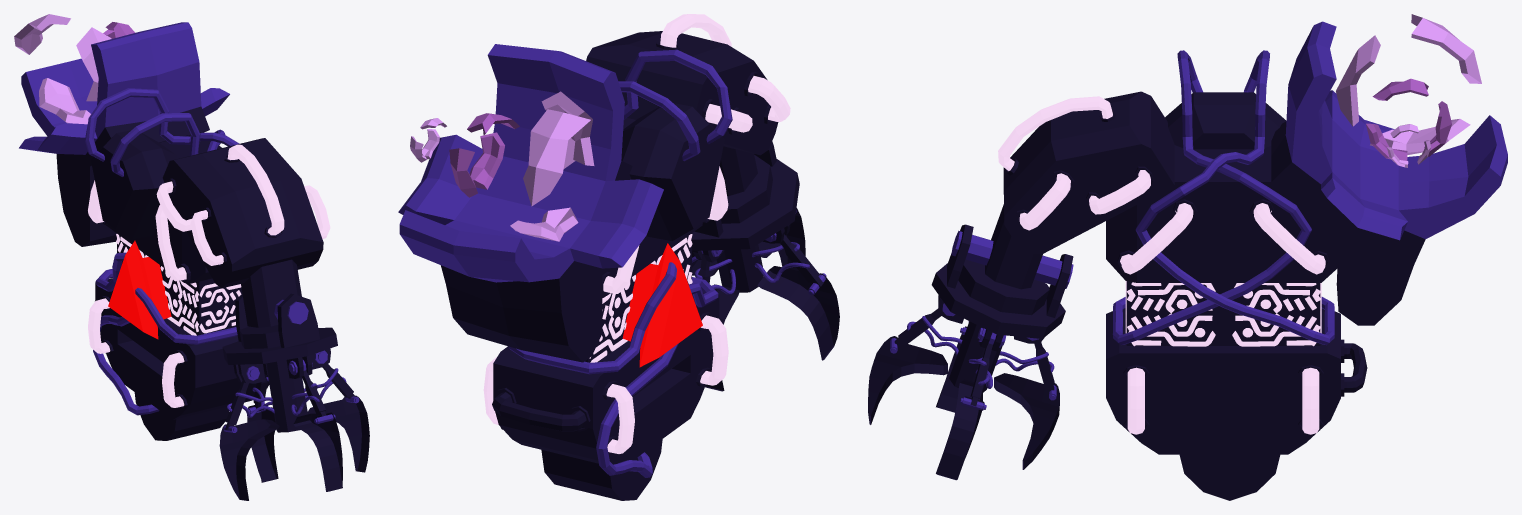
File: Robot.fbx
3 renders of one model, left to right at view 1: azimuth 30°, elevation 25°; view 2: azimuth 150°, elevation 25°; view 3: azimuth 270°, elevation 25°, orthographic. The views are drawn at different scales.
Visible parts, largest first — view 1: Cube.014, Cube.011, Cube.013, Plane.005, Plane.009, Cylinder.008, Torus.004, Plane.006, Plane.008, Cube.015, BezierCurve.023, BezierCurve.024 (+18 smaller); view 2: Cube.014, Cube.013, Cube.011, Plane.005, Torus.004, Cylinder.008, Plane.006, BezierCurve.024, BezierCurve.017, Cube.009, Plane.009, BezierCurve.023 (+16 smaller); view 3: Cube.014, Cube.013, Cube.012, Cube.011, Cube.010, BezierCurve.024, Plane.008, BezierCurve.023, runes.002, Cylinder.008, Plane.005, Torus.004 (+15 smaller).
Boxes of the visible parts, bbox=[...] form: Cube.014: bbox=[19, 22, 229, 246]; Cube.011: bbox=[162, 138, 323, 288]; Cube.013: bbox=[95, 278, 269, 419]; Plane.005: bbox=[91, 130, 177, 239]; Plane.009: bbox=[219, 395, 369, 500]; Cylinder.008: bbox=[222, 327, 337, 432]; Torus.004: bbox=[14, 14, 111, 124]; Plane.006: bbox=[108, 240, 171, 339]; Plane.008: bbox=[247, 405, 342, 491]; Cube.015: bbox=[241, 259, 301, 327]; BezierCurve.023: bbox=[110, 113, 237, 344]; BezierCurve.024: bbox=[85, 88, 239, 291]; Cube.014: bbox=[398, 44, 663, 362]; Cube.013: bbox=[493, 293, 719, 464]; Cube.011: bbox=[586, 31, 778, 155]; Plane.005: bbox=[621, 103, 724, 241]; Torus.004: bbox=[510, 91, 594, 241]; Cylinder.008: bbox=[692, 159, 799, 292]; Plane.006: bbox=[622, 243, 702, 367]; BezierCurve.024: bbox=[508, 81, 700, 374]; BezierCurve.017: bbox=[483, 312, 728, 454]; Cube.009: bbox=[541, 439, 662, 500]; Plane.009: bbox=[692, 250, 839, 360]; BezierCurve.023: bbox=[624, 49, 732, 307]; Cube.014: bbox=[1271, 21, 1507, 325]; Cube.013: bbox=[1106, 308, 1340, 454]; Cube.012: bbox=[1106, 145, 1338, 282]; Cube.011: bbox=[1003, 91, 1174, 253]; Cube.010: bbox=[1126, 281, 1320, 345]; BezierCurve.024: bbox=[1135, 50, 1334, 345]; Plane.008: bbox=[868, 336, 1059, 469]; BezierCurve.023: bbox=[1112, 50, 1311, 345]; runes.002: bbox=[1127, 282, 1320, 346]; Cylinder.008: bbox=[931, 259, 1065, 392]; Plane.005: bbox=[1165, 92, 1286, 149]; Torus.004: bbox=[1336, 14, 1481, 154].
Size of the model in its own units: 201 by 401 by 526.
